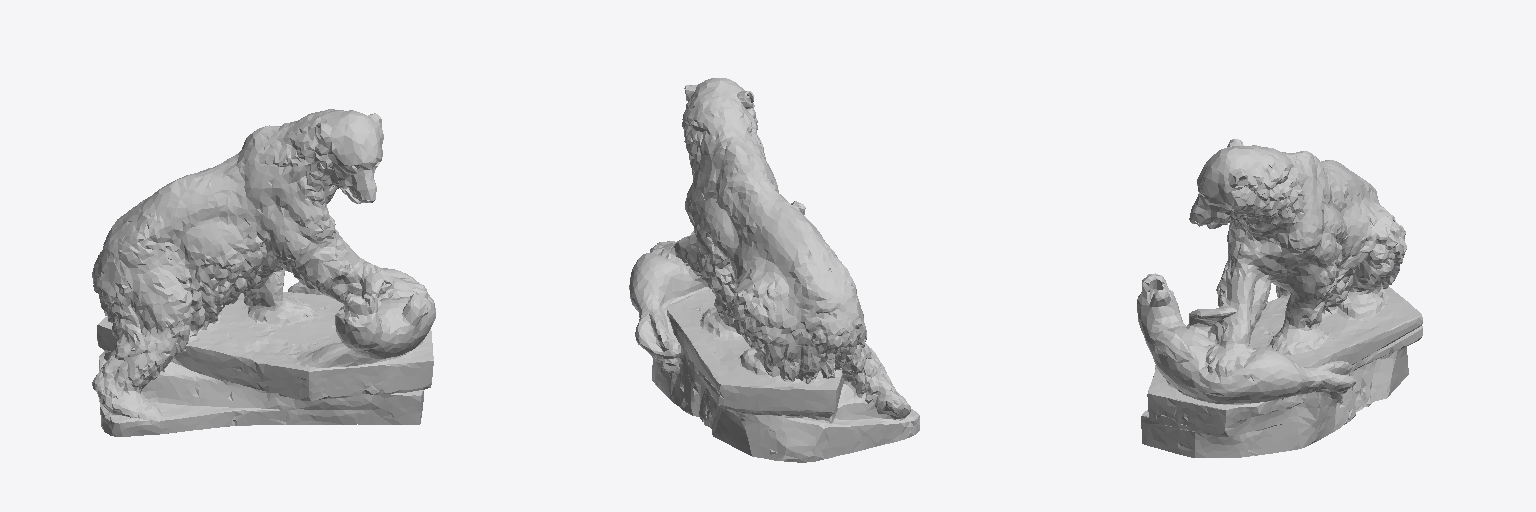
File: bear.obj
3 renders of one model, left to right at view 1: azimuth 30°, elevation 25°; view 2: azimuth 150°, elevation 25°; view 3: azimuth 270°, elevation 25°, orthographic.
Visible parts, largest first — view 1: Eisbar; view 2: Eisbar; view 3: Eisbar.
Boxes of the visible parts, <box> form: Eisbar: <box>92,109,435,436</box>; Eisbar: <box>629,78,919,462</box>; Eisbar: <box>1137,139,1422,457</box>.
Size of the model in its own units: 2.09 by 1.91 by 1.74.